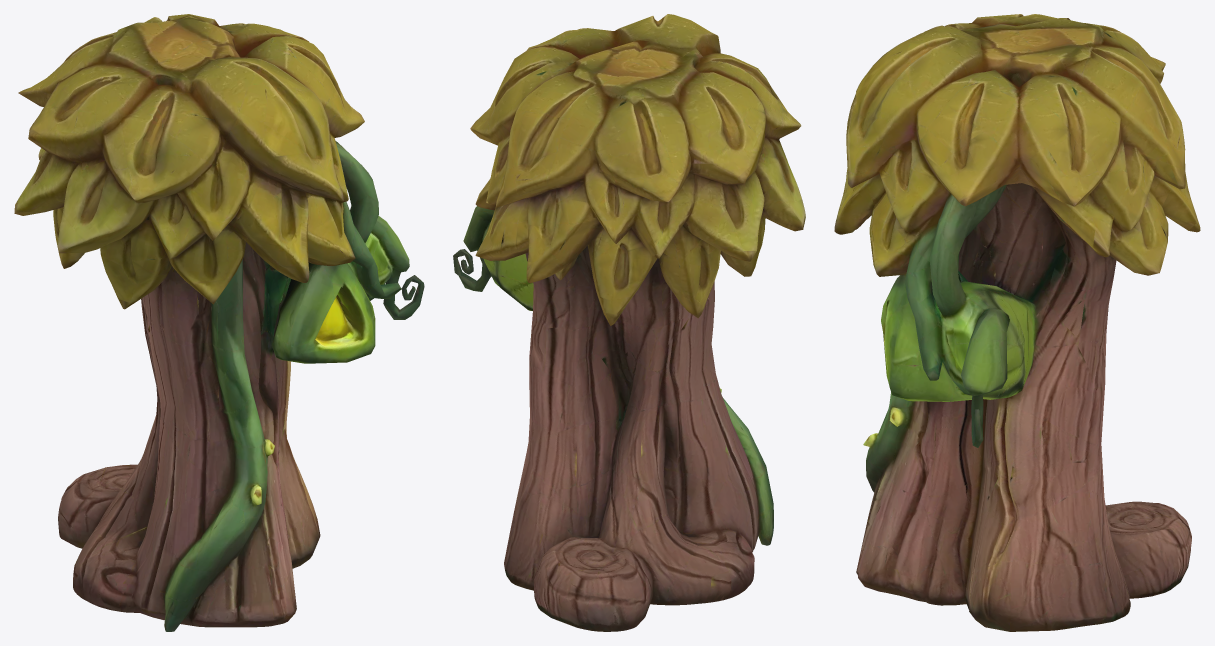
Rendered from amberleaf_sentinel.glb.
3 views of the same model, side by side, from view 1: azimuth 30°, elevation 25°; view 2: azimuth 150°, elevation 25°; view 3: azimuth 270°, elevation 25° (orthographic). The views are drawn at different scales.
Visible parts, largest first — view 1: Mesh_0; view 2: Mesh_0; view 3: Mesh_0.
Part boxes in pixels (x1=…): Mesh_0: x1=14, y1=14, x2=424, y2=631; Mesh_0: x1=453, y1=14, x2=805, y2=631; Mesh_0: x1=834, y1=14, x2=1200, y2=631.
Bounding box in the file's own units: 1.36 × 1.9 × 1.16.
Materials: 1 (1 with a texture image).
